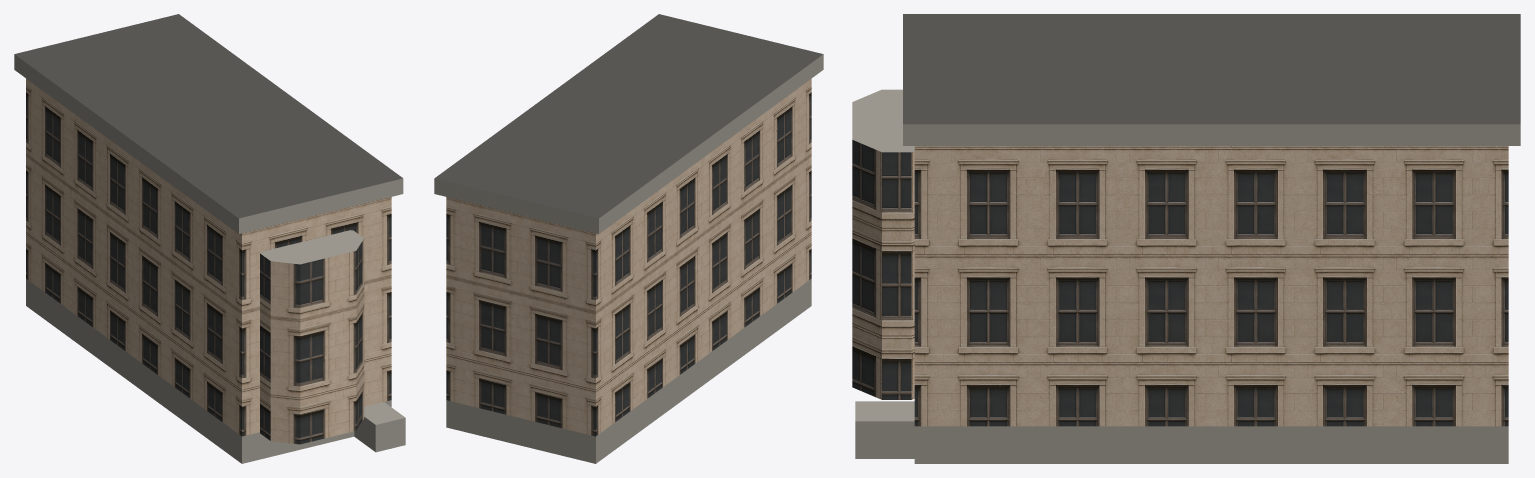
The model's file is gen_low2_greystone.glb.
3 renders of one model, left to right at view 1: azimuth 30°, elevation 25°; view 2: azimuth 150°, elevation 25°; view 3: azimuth 270°, elevation 25°, orthographic. The views are drawn at different scales.
Visible parts, largest first — view 1: gen_low2_greystone; view 2: gen_low2_greystone; view 3: gen_low2_greystone.
Boxes of the visible parts, left/top/right/bottom form: gen_low2_greystone: left=14, top=14, right=405, bottom=463; gen_low2_greystone: left=434, top=14, right=823, bottom=463; gen_low2_greystone: left=852, top=14, right=1520, bottom=463.
Bounding box in the file's own units: 8.8 × 12.8 × 22.5.
2 materials, 2 textured.
